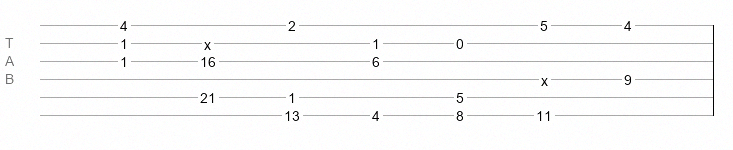0: (456, 36, 464, 46)
1: (120, 36, 128, 46), (120, 54, 128, 64), (288, 90, 296, 100), (372, 36, 380, 46)
11: (536, 108, 552, 118)
13: (284, 108, 300, 118)
16: (200, 54, 216, 64)
2: (288, 18, 296, 28)
21: (200, 90, 216, 100)
4: (120, 18, 128, 28), (372, 108, 380, 118), (624, 18, 632, 28)
5: (456, 90, 464, 100), (540, 18, 548, 28)
6: (372, 54, 380, 64)
8: (456, 108, 464, 118)
9: (624, 72, 632, 82)
x: (204, 37, 211, 45), (541, 73, 548, 81)
